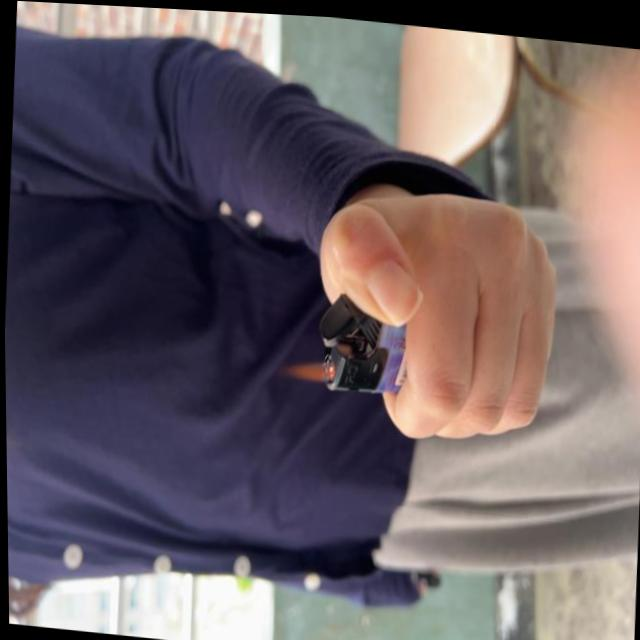Fire: (276, 350, 335, 383)
